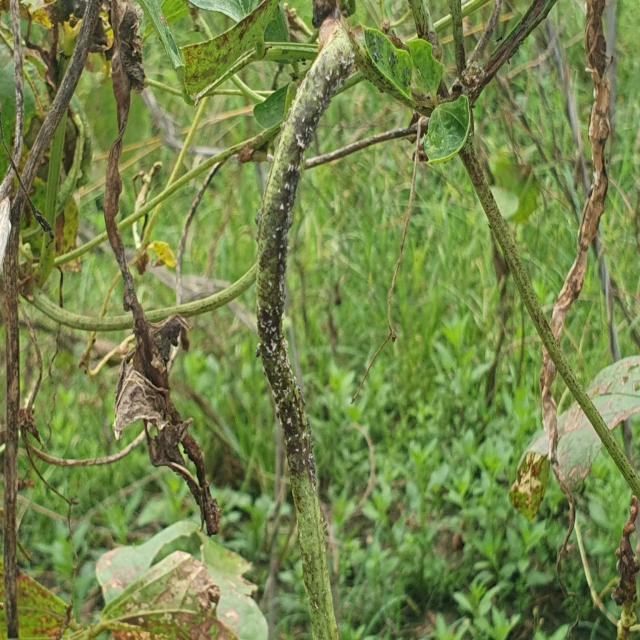leaf-low: (423, 95, 472, 164), (406, 38, 448, 100)
sitaw-aphid-moderate: (257, 5, 355, 640)
